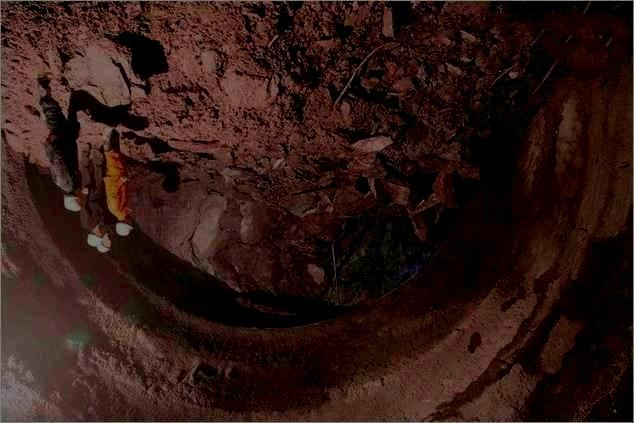helmet: (116, 215, 134, 237), (86, 225, 103, 247), (63, 191, 81, 211), (97, 233, 111, 253)
